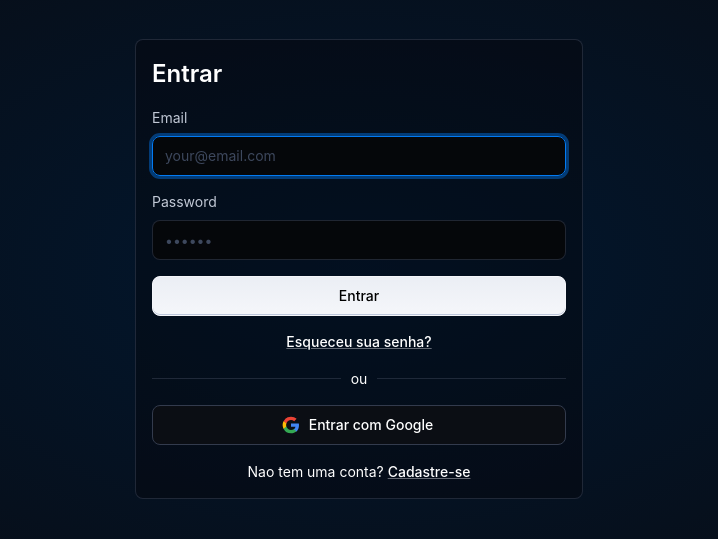
it: Autenticação › mostra erro de validação para e-mail inválido
The image size is (718, 539).
Type "email-invalido" into the field with id "email" at (359, 156), box [165,146,553,166]
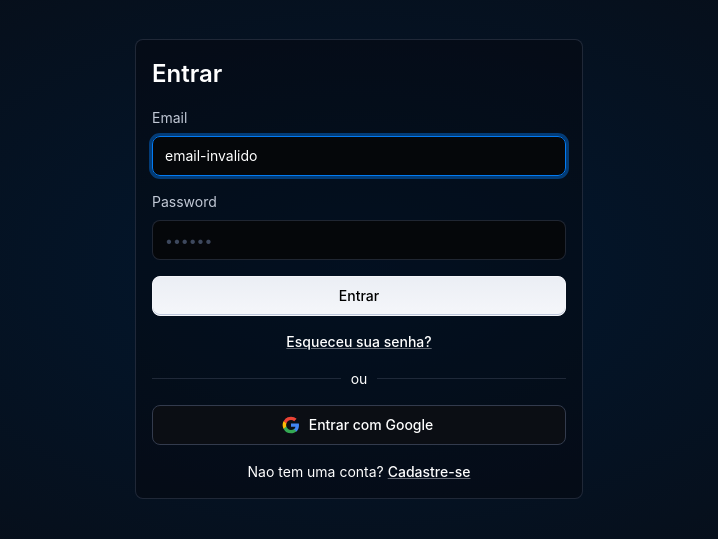
Click the button "Entrar" at (359, 296), box [152,276,566,316]
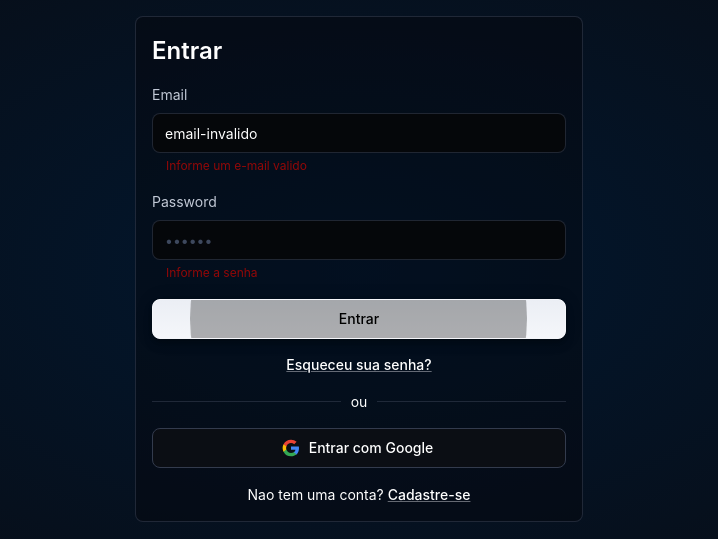
Check: the text "Informe um e-mail valido" is shown, box [166,158,307,173]
